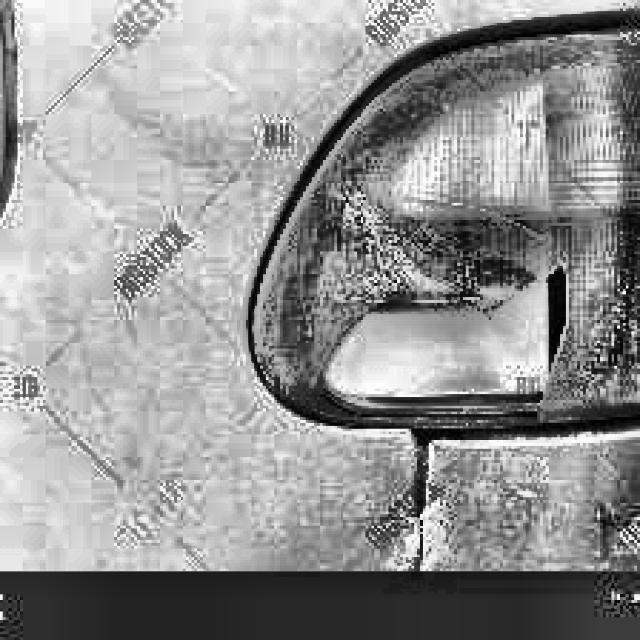tail_lamp: (311, 255, 577, 439)
